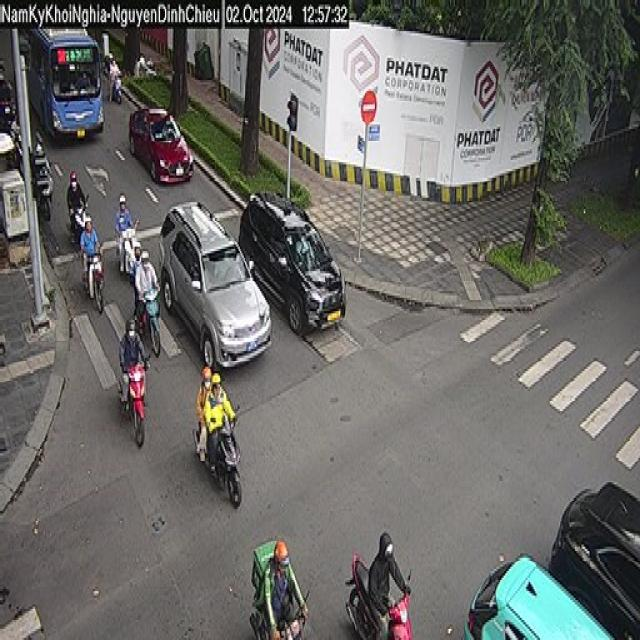bus: (26, 24, 104, 142)
car: (156, 200, 272, 369), (238, 189, 346, 335), (470, 549, 611, 640), (564, 493, 640, 640), (128, 104, 194, 184)
motorcycle: (192, 404, 242, 506), (351, 564, 422, 634), (246, 589, 314, 640), (116, 356, 150, 446), (80, 240, 105, 313), (115, 216, 139, 276), (29, 178, 61, 218), (66, 191, 89, 245), (28, 136, 50, 175), (8, 140, 30, 178), (106, 82, 129, 110), (2, 105, 24, 134)
person: (366, 531, 410, 638), (269, 540, 309, 638), (202, 371, 238, 473), (118, 318, 150, 409), (135, 249, 160, 351), (195, 364, 213, 460), (80, 216, 102, 294), (66, 169, 86, 233), (1, 103, 18, 142), (35, 141, 48, 183), (0, 58, 12, 96), (11, 110, 27, 135), (107, 52, 120, 78)
